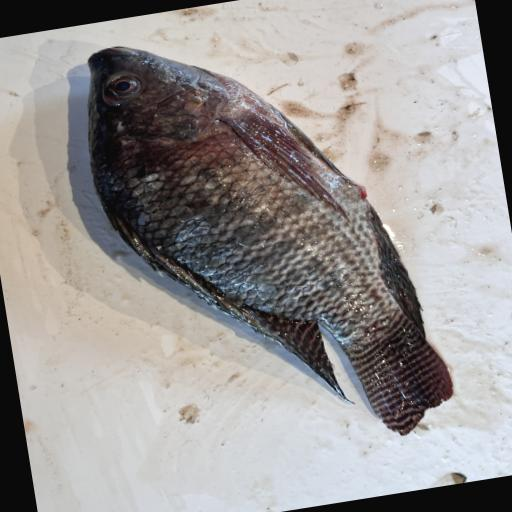Tilapia: (73, 2, 459, 477)
